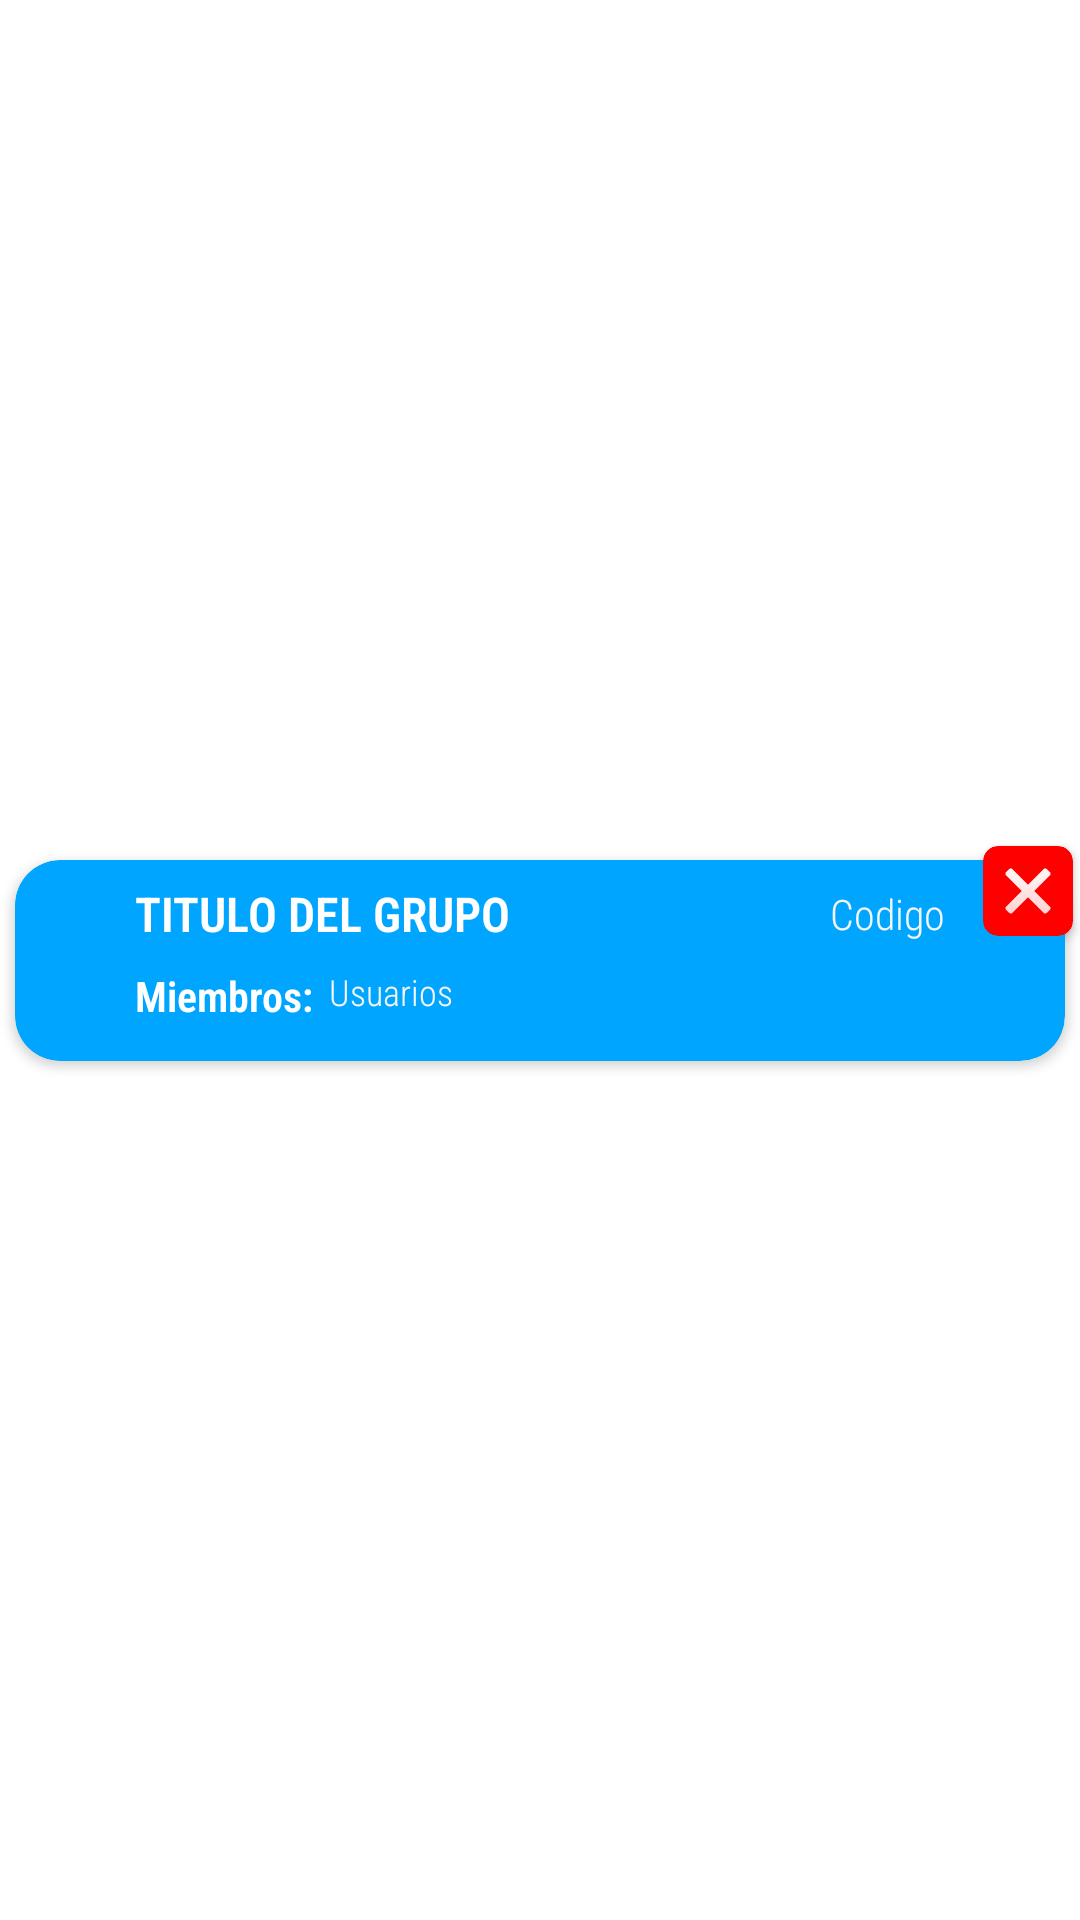

Screen size 1080w x 1920h. Icon name, then its center in pixels as (x=x, y=y):
close: (x=1028, y=891)
